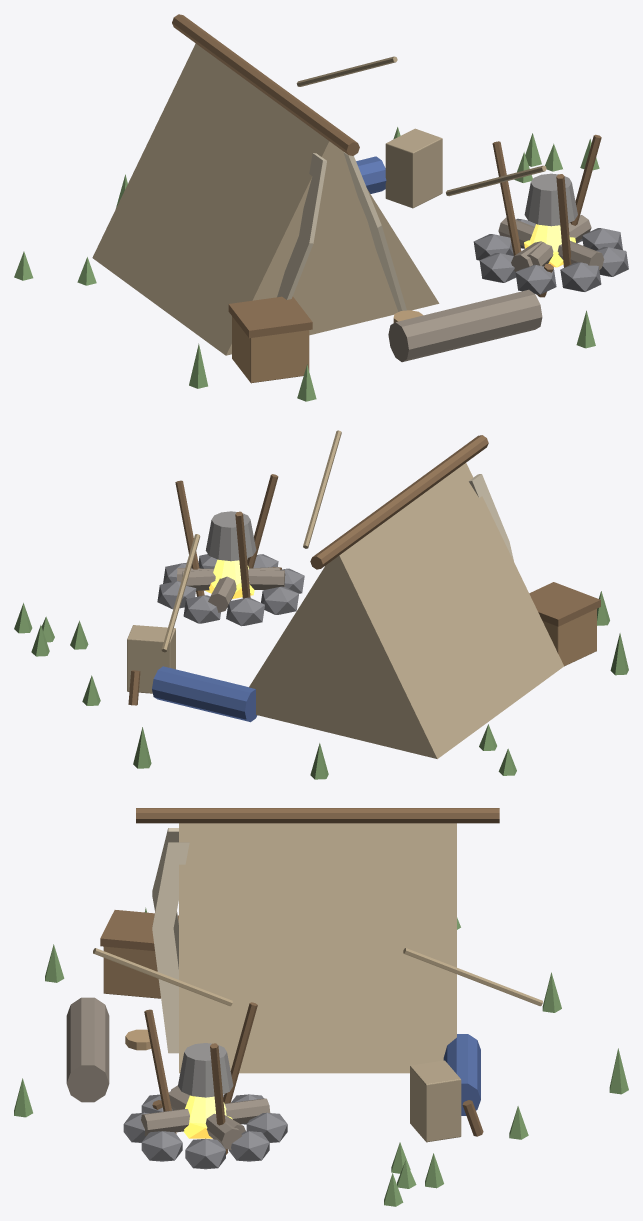
The model's file is camp.glb.
3 renders of one model, top to bottom at view 1: azimuth 30°, elevation 25°; view 2: azimuth 150°, elevation 25°; view 3: azimuth 270°, elevation 25°, orthographic. The views are drawn at different scales.
Parts seen in each view (by area): view 1: tent_body, seat_log, pack, ridge_pole, crate, crate_lid, flap_L, pot, flap_R, log0, fire_stone6, tripod2 (+12 smaller); view 2: tent_body, bedroll, ridge_pole, pack, crate_lid, crate, pot, fire_stone3, fire_stone4, log1, fire_stone2, rope (+9 smaller); view 3: tent_body, ridge_pole, seat_log, flap_R, pack, crate, pot, bedroll, crate_lid, log0, fire_stone7, fire_stone0 (+10 smaller).
Boxes of the visible parts, bbox=[...] form: tent_body: bbox=[92, 43, 439, 355]; seat_log: bbox=[388, 289, 542, 362]; pack: bbox=[385, 128, 442, 208]; ridge_pole: bbox=[172, 14, 359, 155]; crate: bbox=[232, 316, 309, 383]; crate_lid: bbox=[228, 296, 312, 338]; flap_L: bbox=[277, 153, 326, 299]; pot: bbox=[524, 173, 577, 226]; flap_R: bbox=[343, 152, 406, 311]; log0: bbox=[498, 217, 604, 269]; fire_stone6: bbox=[560, 262, 601, 291]; tripod2: bbox=[492, 141, 521, 255]; tent_body: bbox=[249, 463, 563, 758]; bedroll: bbox=[152, 666, 257, 722]; ridge_pole: bbox=[310, 435, 488, 569]; pack: bbox=[127, 625, 175, 693]; crate_lid: bbox=[529, 582, 600, 626]; crate: bbox=[542, 609, 596, 666]; pot: bbox=[205, 511, 256, 561]; fire_stone3: bbox=[226, 597, 264, 626]; fire_stone4: bbox=[261, 586, 298, 614]; log1: bbox=[177, 568, 285, 589]; fire_stone2: bbox=[183, 595, 220, 623]; rope: bbox=[303, 430, 341, 548]; tent_body: bbox=[179, 823, 456, 1073]; ridge_pole: bbox=[136, 808, 499, 823]; seat_log: bbox=[66, 997, 109, 1102]; flap_R: bbox=[152, 842, 189, 1053]; pack: bbox=[410, 1060, 461, 1142]; crate: bbox=[103, 946, 160, 998]; pot: bbox=[178, 1043, 233, 1097]; bedroll: bbox=[443, 1034, 480, 1115]; crate_lid: bbox=[100, 910, 178, 950]; log0: bbox=[141, 1098, 270, 1135]; fire_stone7: bbox=[141, 1131, 182, 1161]; fire_stone0: bbox=[185, 1138, 225, 1169].
Bounding box in the file's own units: 1.25 × 0.4614 × 1.15.
